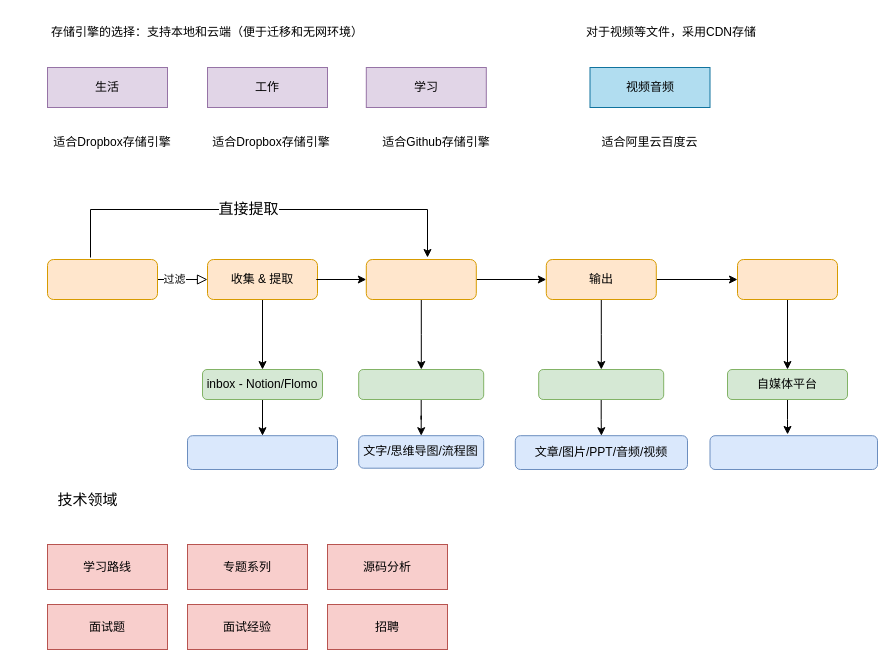
This 895x667 diagram has some shape labels left out. Here are the shapes that lost their labels. From the top down, the centre of each, then its label:
At point (102, 279): "输入".
At point (420, 279): "原创碎片".
At point (787, 279): "分享".
At point (421, 384): "repository - Github".
At point (601, 384): "blog - Github".
At point (262, 452): "随笔/文章 -> 文字/图片".
At point (793, 452): "图文/幻灯片/音频/视频/直播".
